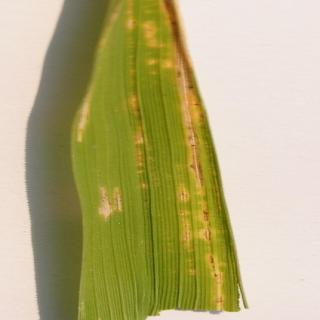Hawar-Daun: (160, 2, 239, 320), (114, 1, 161, 208), (76, 66, 98, 152), (94, 172, 129, 222)
